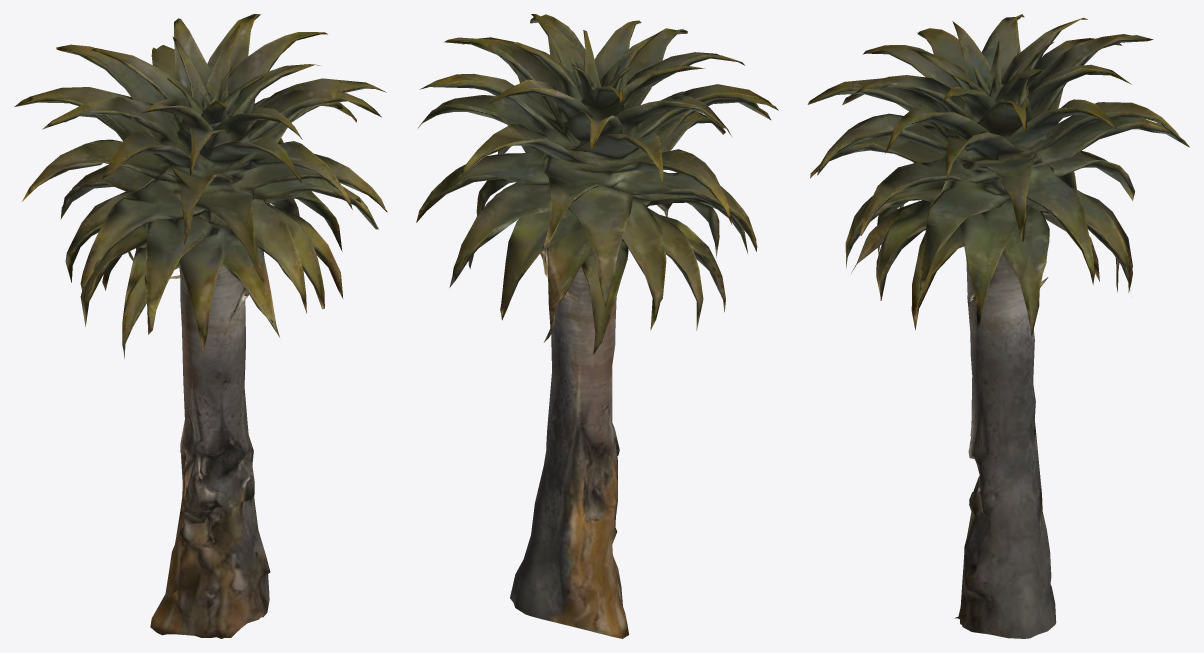
File: pl_quiver_tree.glb
3 renders of one model, left to right at view 1: azimuth 30°, elevation 25°; view 2: azimuth 150°, elevation 25°; view 3: azimuth 270°, elevation 25°, orthographic.
Parts seen in each view (by area): view 1: quiver_tree_02; view 2: quiver_tree_02; view 3: quiver_tree_02.
Boxes of the visible parts, box(x1,y1,x2,y2) form: quiver_tree_02: box(14, 14, 387, 638); quiver_tree_02: box(416, 14, 778, 638); quiver_tree_02: box(807, 14, 1189, 638).
Size of the model in its own units: 0.9878 by 1.68 by 1.
Materials: 1 (1 with a texture image).
